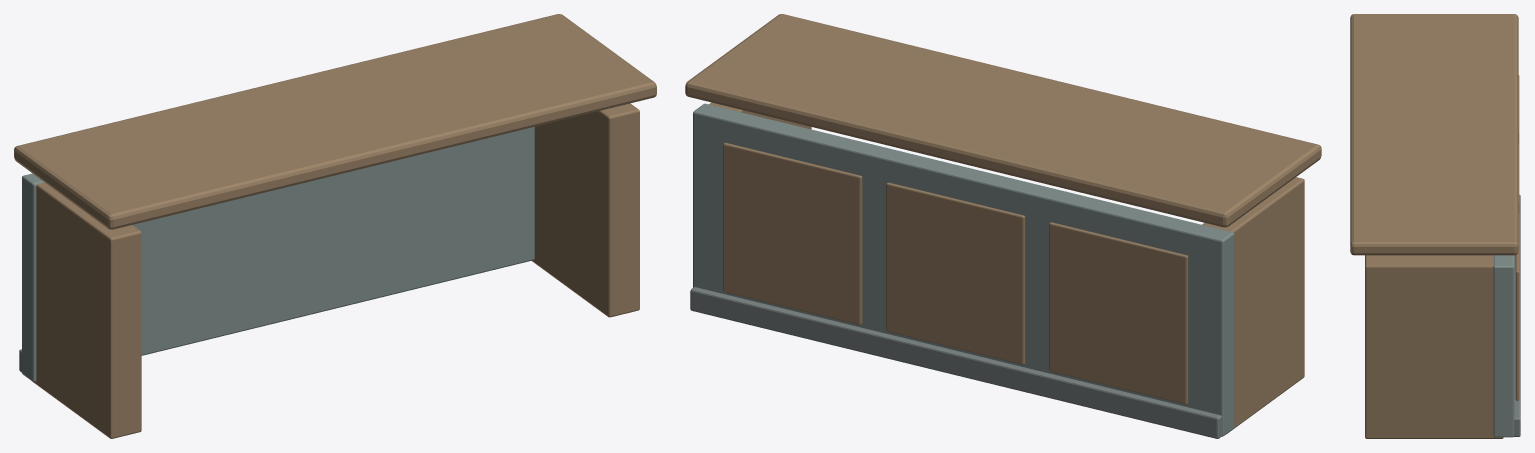
File: ReceptionCounter.fbx
3 renders of one model, left to right at view 1: azimuth 30°, elevation 25°; view 2: azimuth 150°, elevation 25°; view 3: azimuth 270°, elevation 25°, orthographic. The views are drawn at different scales.
Parts seen in each view (by area): view 1: ReceptionCounter_Timber, ReceptionCounter_Paint; view 2: ReceptionCounter_Timber, ReceptionCounter_Paint, ReceptionCounter_Steel; view 3: ReceptionCounter_Timber, ReceptionCounter_Paint, ReceptionCounter_Steel.
Part boxes in pixels (x1,y1,x2,y2): ReceptionCounter_Timber: (14, 14, 656, 438); ReceptionCounter_Paint: (22, 127, 534, 381); ReceptionCounter_Timber: (685, 14, 1321, 433); ReceptionCounter_Paint: (693, 103, 1234, 436); ReceptionCounter_Steel: (690, 287, 1221, 438); ReceptionCounter_Timber: (1350, 14, 1519, 438); ReceptionCounter_Paint: (1493, 255, 1514, 437); ReceptionCounter_Steel: (1514, 194, 1520, 436).
Size of the model in its own units: 260 by 105 by 81.
